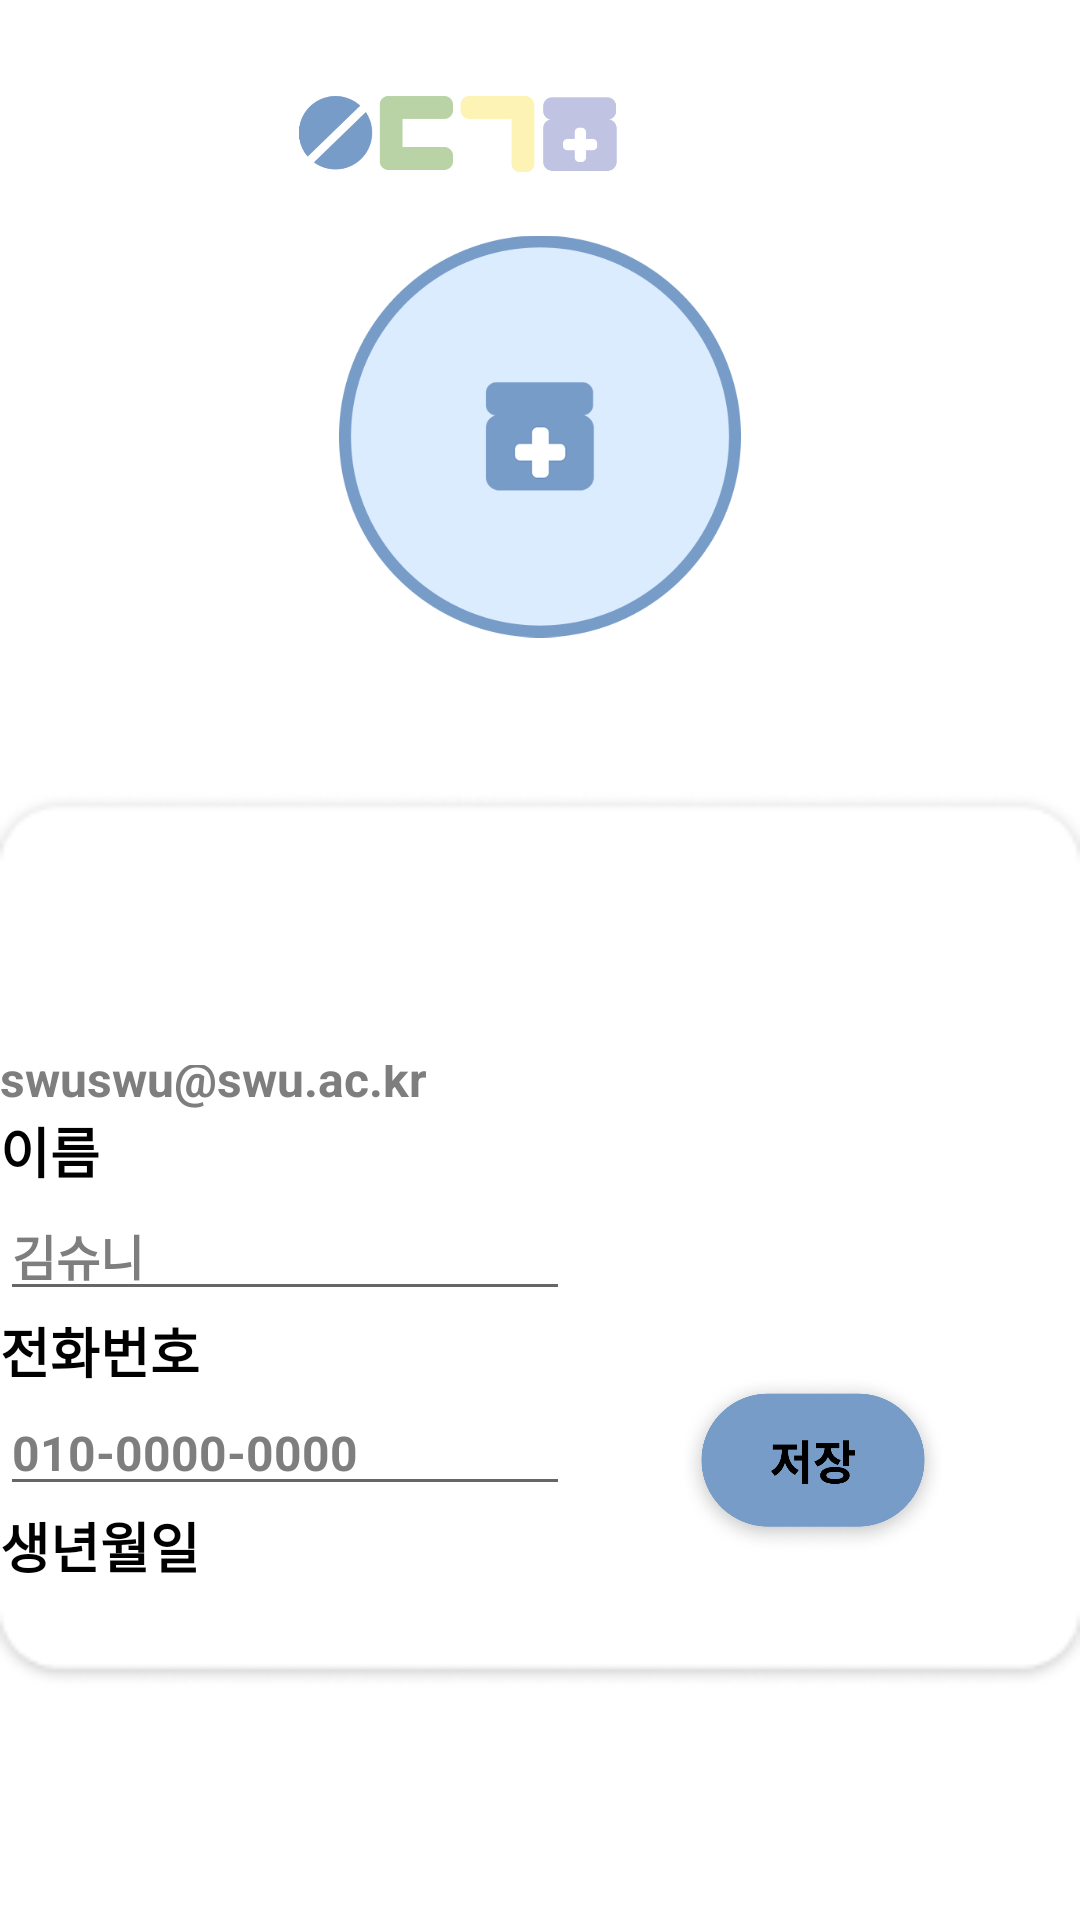

Icons on this 1080×1920 Android screen, each with the point to tap as (x=x, y=y):
title: (x=458, y=134)
